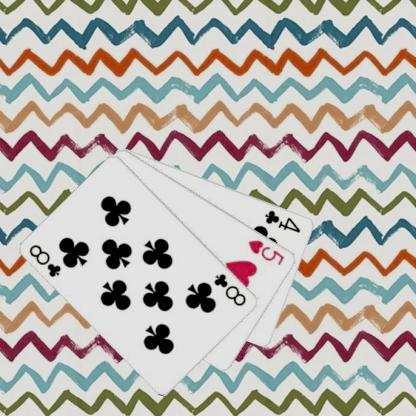4C: (263, 207, 302, 234)
5H: (246, 237, 286, 267)
8C: (211, 270, 248, 308), (27, 241, 63, 279)
